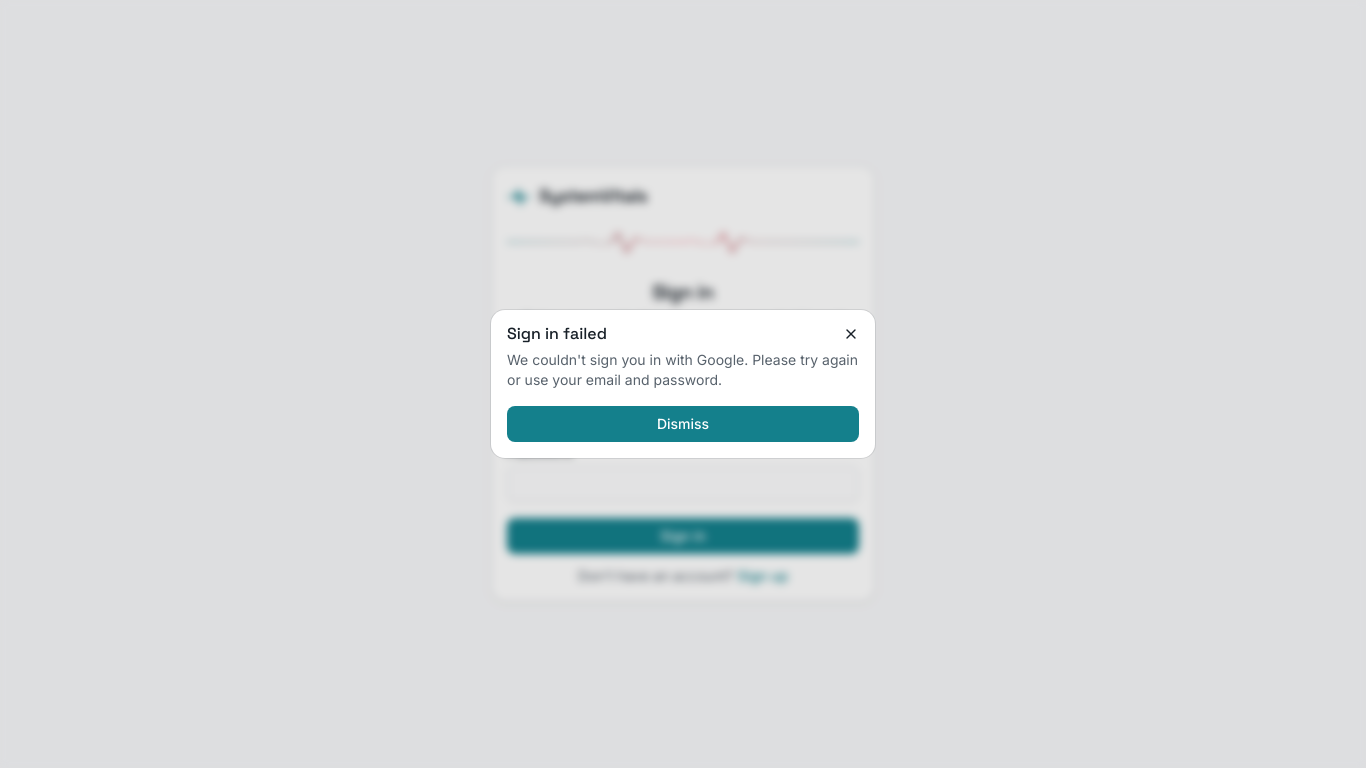
Test: LoginPage › Google sign-in error dialog › stays closed after the user dismisses it
The image size is (1366, 768).
Expected: the dialog is shown, [491,310,875,458]
What coordinates should you click on to do the following:
click the button "Dismiss"
I would click on:
 (683, 424)
Its box is [507,406,859,442].
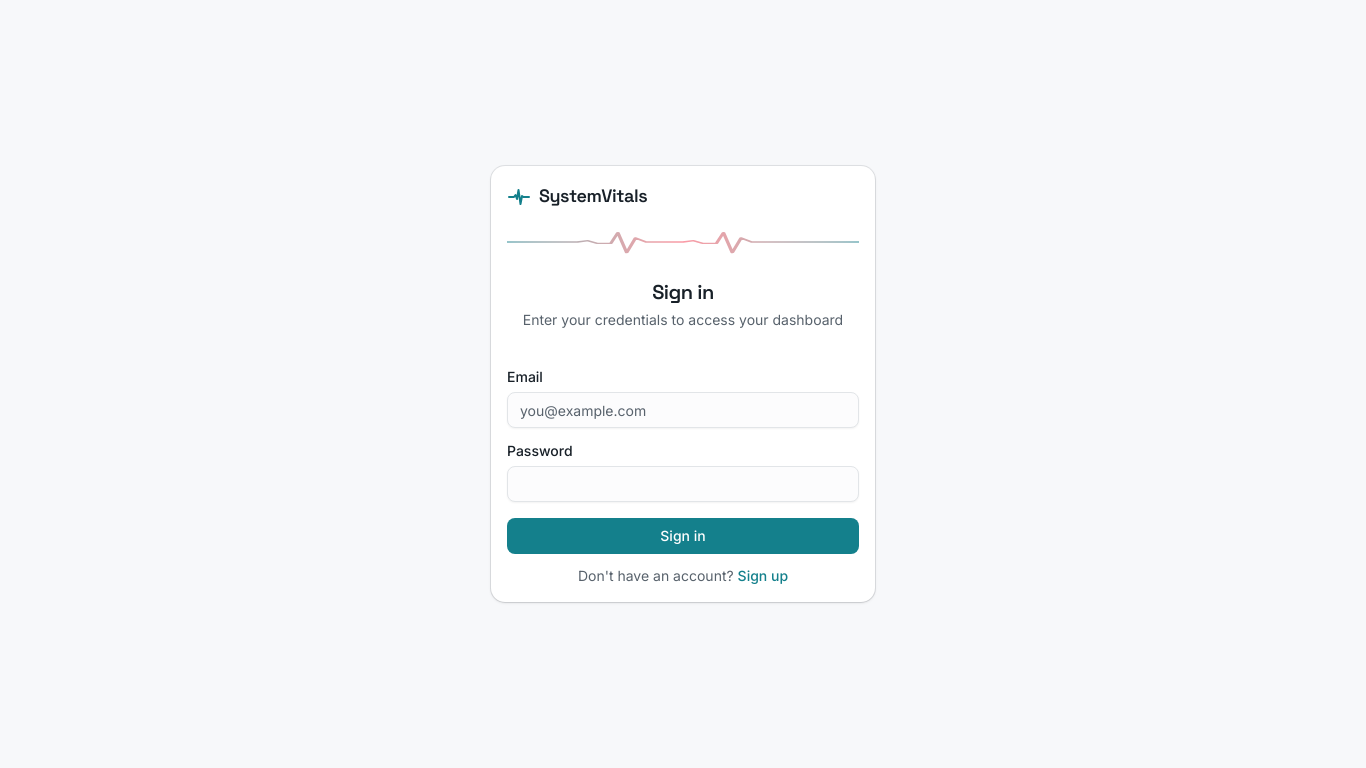
Expected: the dialog is gone
